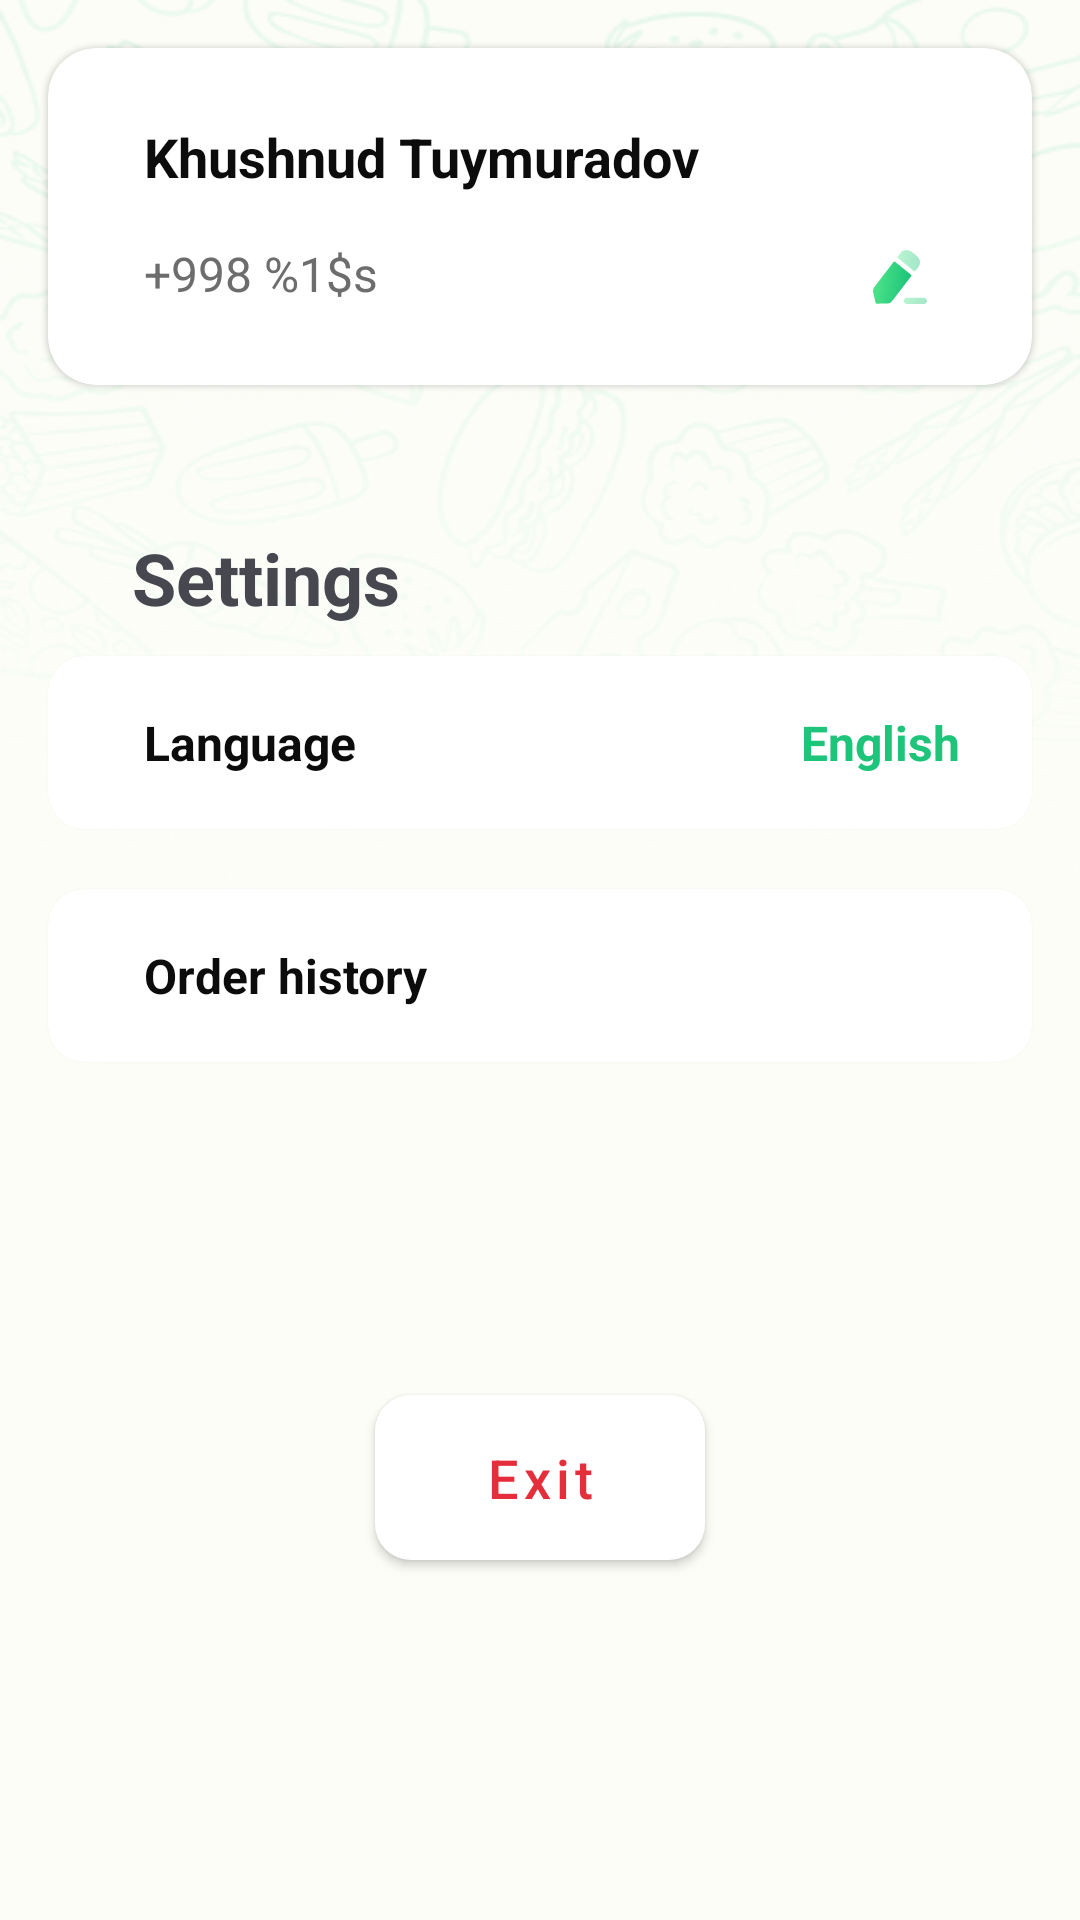

Icons on this 1080 x 1920 Android screen, each with the point to tap as point (x, y):
edit: point (900, 277)
